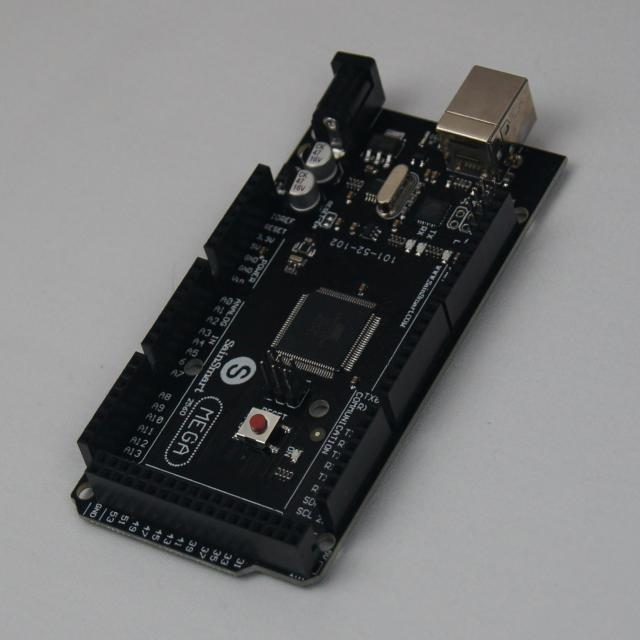Arduino Mega 2560 -Black-: (73, 53, 563, 585)
